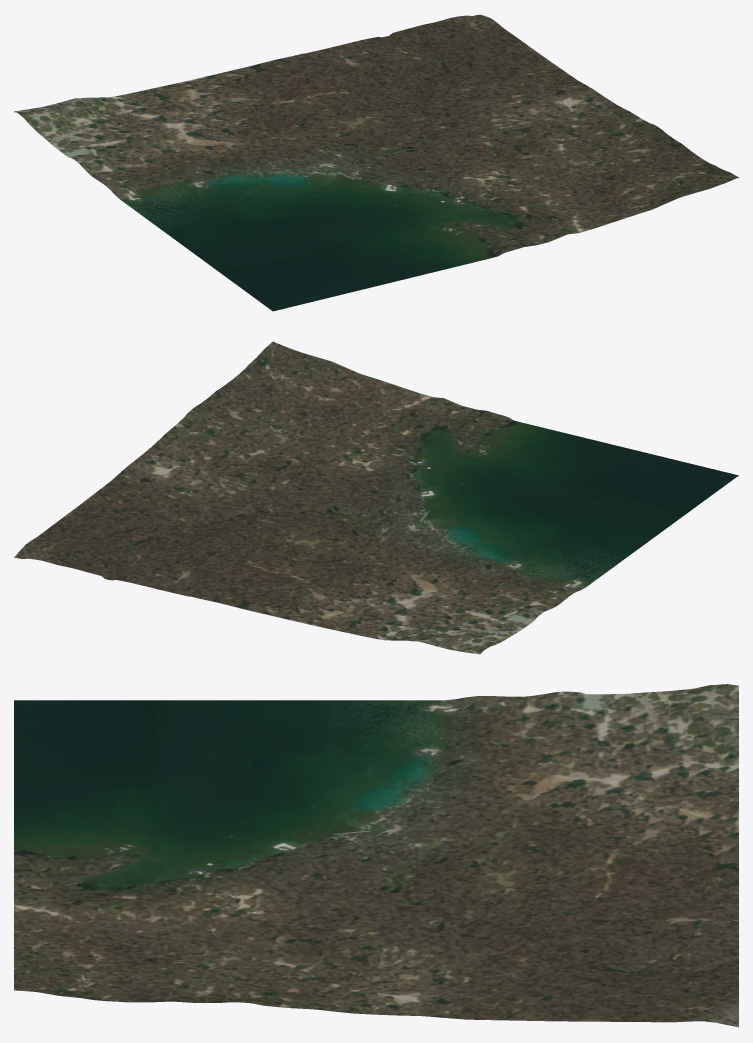
The picture shows the model from 3 angles, top to bottom: view 1: azimuth 30°, elevation 25°; view 2: azimuth 150°, elevation 25°; view 3: azimuth 270°, elevation 25°; orthographic projection. The views are drawn at different scales.
Size of the model in its own units: 500 by 28.25 by 481.
Materials: 1 (1 with a texture image).
